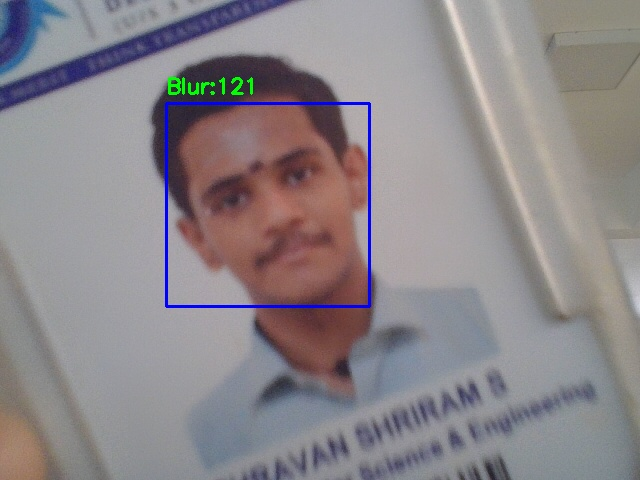fake: (166, 103, 369, 306)
